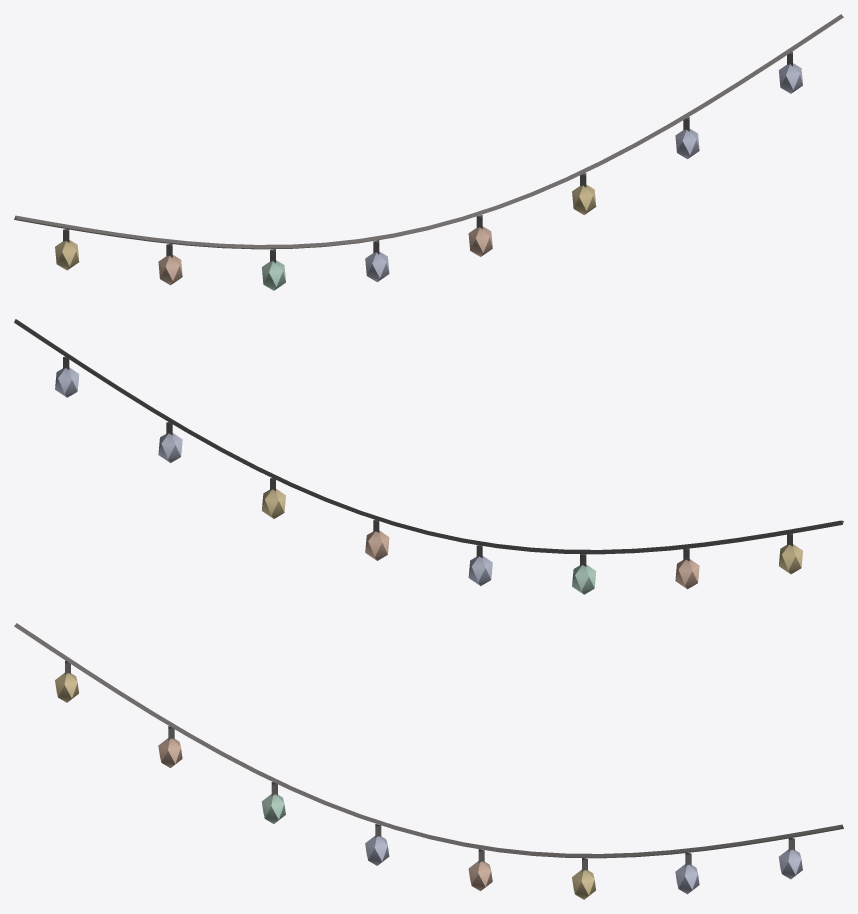
Rendered from hub_lamp_string.glb.
3 renders of one model, top to bottom at view 1: azimuth 30°, elevation 25°; view 2: azimuth 150°, elevation 25°; view 3: azimuth 330°, elevation 25°, orthographic.
Parts seen in each view (by area): view 1: hub_lamp_string; view 2: hub_lamp_string; view 3: hub_lamp_string.
Boxes of the visible parts, bbox=[...] form: hub_lamp_string: bbox=[14, 14, 843, 290]; hub_lamp_string: bbox=[14, 319, 843, 594]; hub_lamp_string: bbox=[14, 623, 843, 899].
Bounding box in the file's own units: 7.01 × 1.25 × 0.1701.
